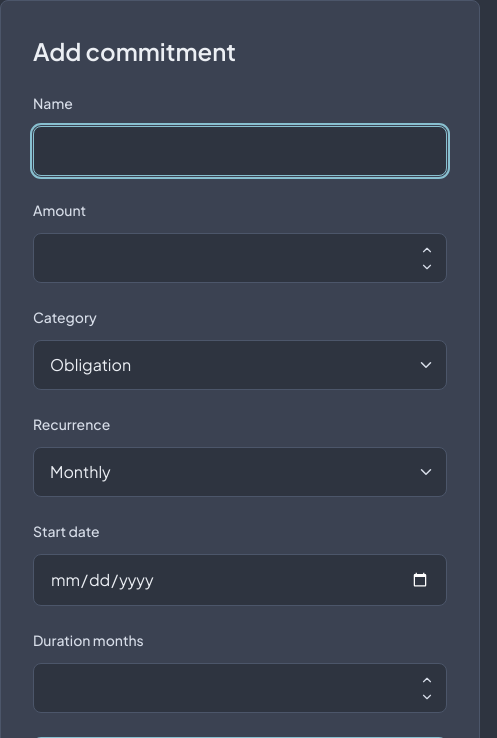
Test: CommitmentForm › describes a one-time savings commitment as an addition
In the field labelled "Name": (240, 151) [33,126,447,176], type "Savings deposit"
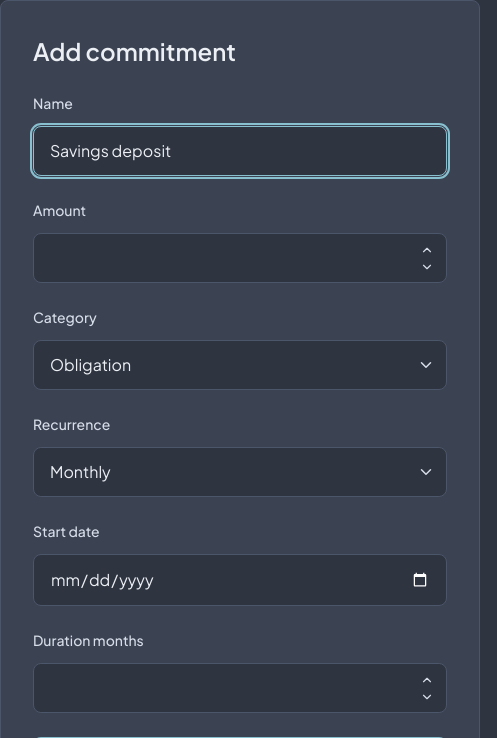
In the field labelled "Amount": (240, 258) [33,233,447,283], type "250"
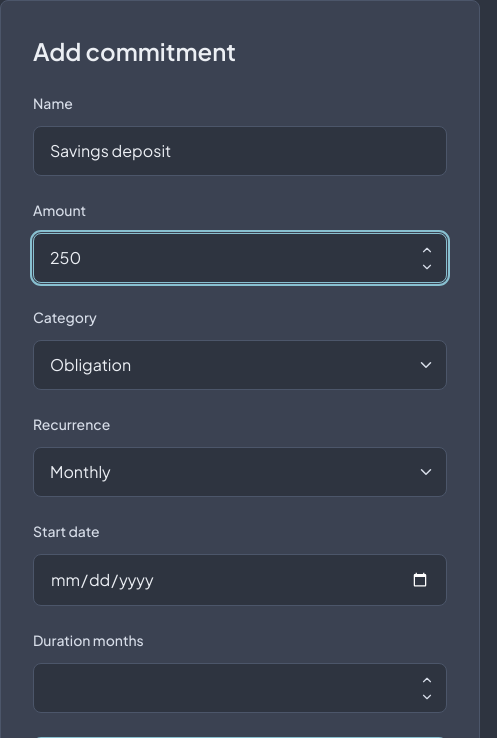
Select "Savings" in the dropdown labelled "Category": (240, 365) [33,340,447,390]
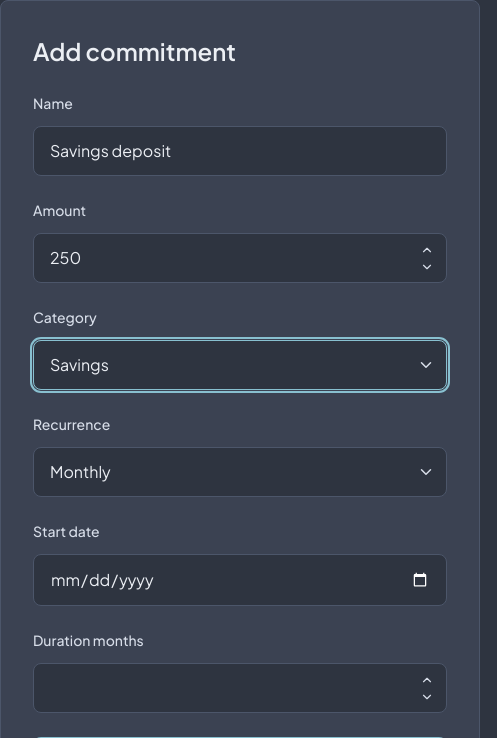
Select "One time" in the dropdown labelled "Recurrence": (240, 472) [33,447,447,497]
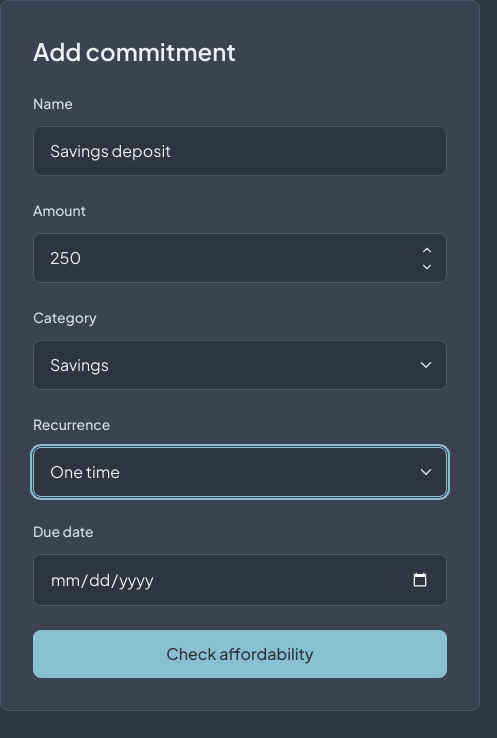
In the date field labelled "Due date": (240, 580) [33,554,447,606], type "2026-08-01"
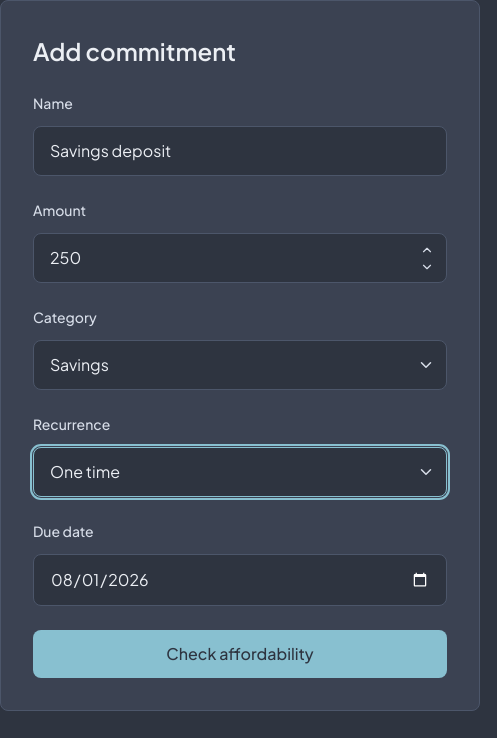
Click the button "Check affordability": (240, 654) [33,630,447,678]
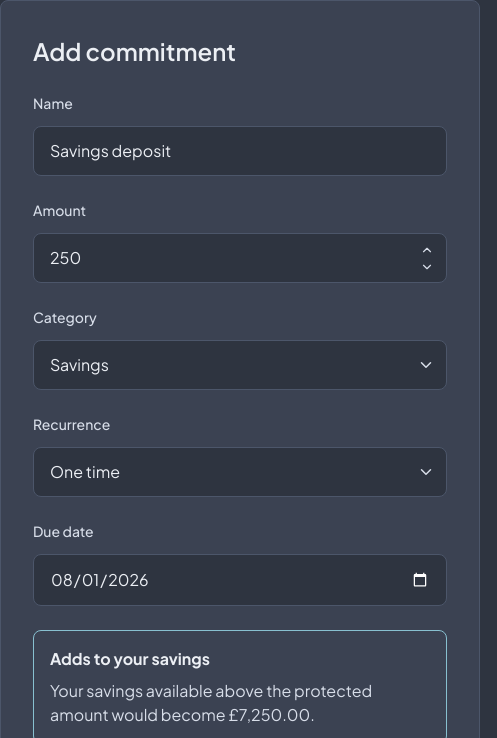
Expected: the heading "Adds to your savings" is shown, [50,648,210,669]
Expected: the message shows "available above the protected amount", [50,680,372,725]
